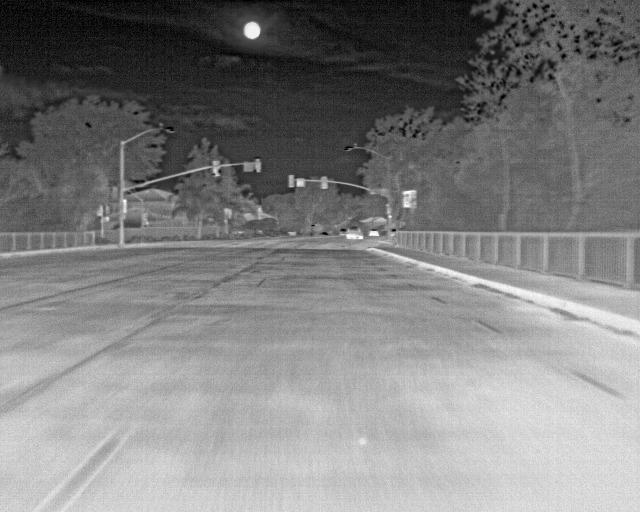car: (346, 226, 363, 239), (369, 229, 379, 236), (339, 229, 347, 235)
light: (213, 161, 220, 176), (142, 212, 148, 226), (322, 177, 327, 189), (123, 199, 127, 213), (289, 176, 294, 187), (256, 160, 261, 170), (387, 205, 392, 214)
sign: (244, 162, 254, 171), (371, 189, 388, 194), (224, 208, 232, 217), (97, 206, 102, 216), (297, 179, 304, 186)
